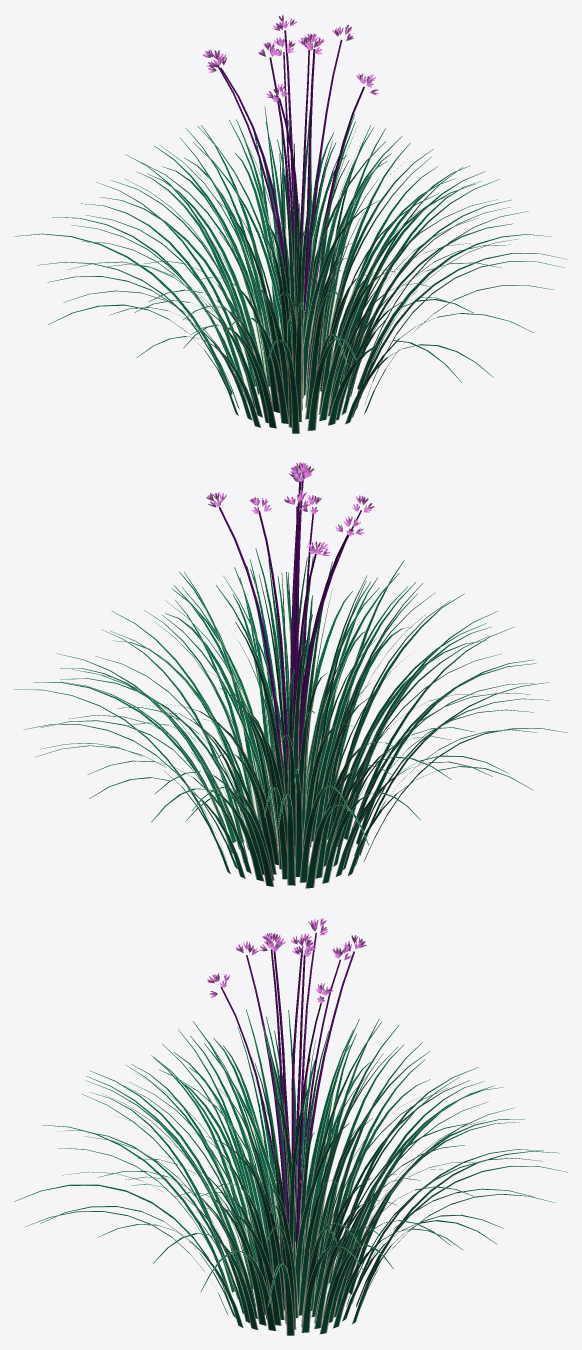
File: Shrub_1.fbx
3 views of the same model, one above another, from view 1: azimuth 30°, elevation 25°; view 2: azimuth 150°, elevation 25°; view 3: azimuth 270°, elevation 25° (orthographic). The views are drawn at different scales.
Visible parts, largest first — view 1: Foliage001; view 2: Foliage001; view 3: Foliage001.
Boxes of the visible parts, x1=… form: Foliage001: x1=14, y1=15, x2=567, y2=433; Foliage001: x1=14, y1=462, x2=567, y2=888; Foliage001: x1=14, y1=918, x2=567, y2=1335.
Size of the model in its own units: 34.53 by 25.74 by 34.42.
Materials: 3 (1 with a texture image).
